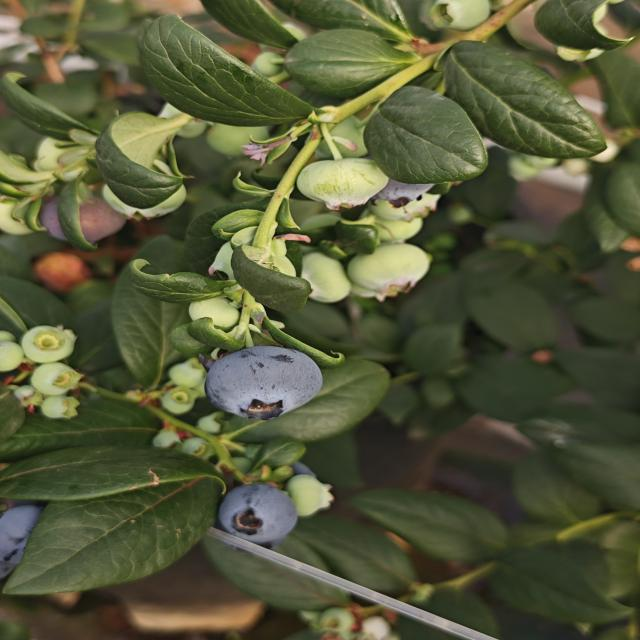ripe: (201, 344, 326, 423), (215, 480, 300, 550), (0, 498, 48, 586)
